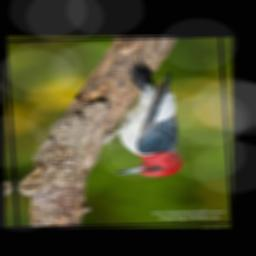Woodpecker: (92, 52, 188, 177)
